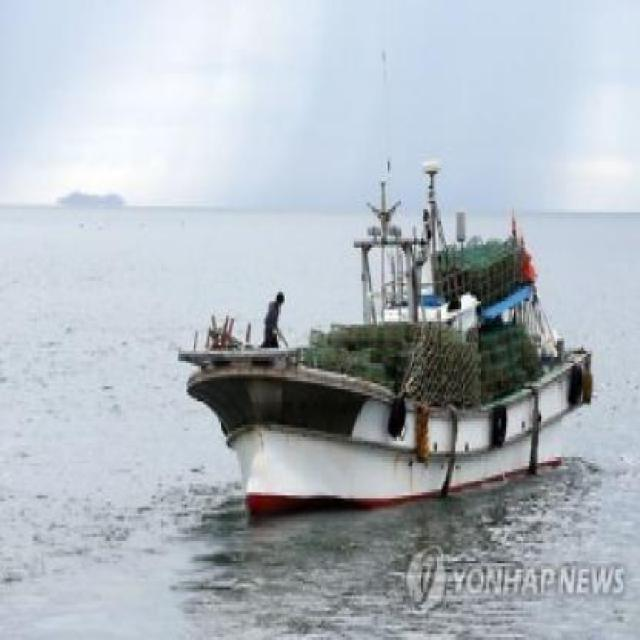fish-b: (178, 146, 606, 544)
